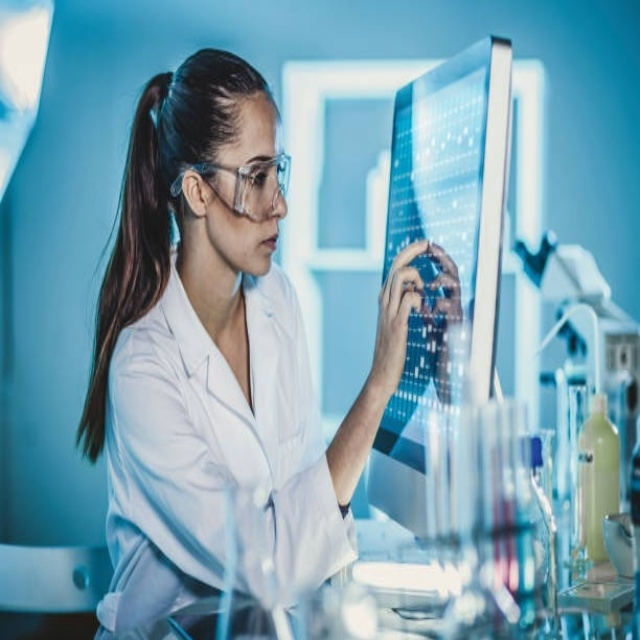Gafas: (174, 155, 291, 221)
Sin_guantes: (366, 233, 433, 388), (428, 239, 468, 407)
Sin_mascara: (245, 222, 283, 276)
